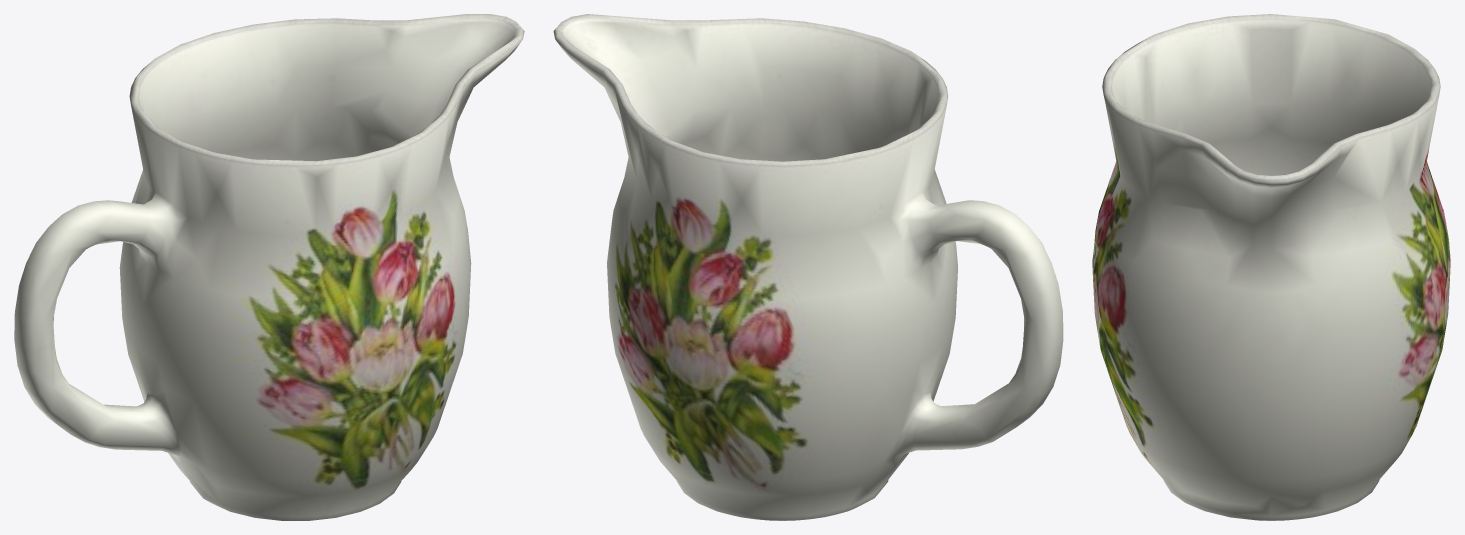
The model's file is jug_01.glb.
3 renders of one model, left to right at view 1: azimuth 30°, elevation 25°; view 2: azimuth 150°, elevation 25°; view 3: azimuth 270°, elevation 25°, orthographic. The views are drawn at different scales.
Parts seen in each view (by area): view 1: jug_01; view 2: jug_01; view 3: jug_01.
Part boxes in pixels (bbox=[...]): jug_01: bbox=[14, 14, 524, 520]; jug_01: bbox=[553, 14, 1063, 520]; jug_01: bbox=[1092, 14, 1450, 520].
Bounding box in the file's own units: 0.275 × 0.2113 × 0.1675.
Materials: 1 (1 with a texture image).
